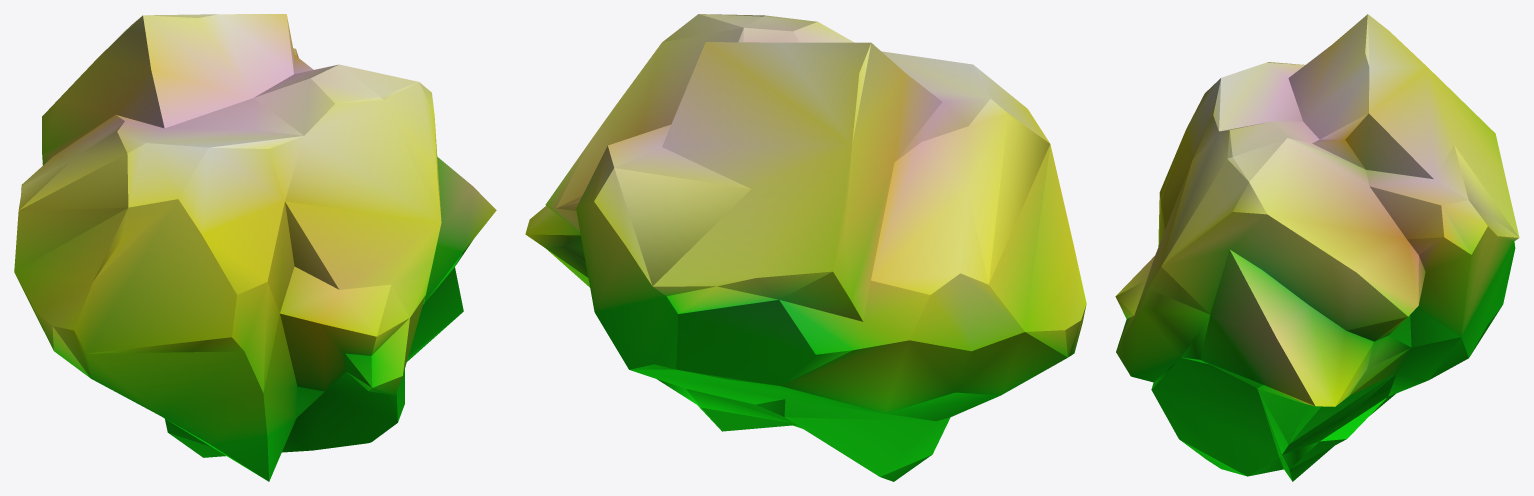
Rendered from rock_clump_01_LOD2.fbx.
3 views of the same model, side by side, from view 1: azimuth 30°, elevation 25°; view 2: azimuth 150°, elevation 25°; view 3: azimuth 270°, elevation 25° (orthographic). The views are drawn at different scales.
Parts seen in each view (by area): view 1: LOD2; view 2: LOD2; view 3: LOD2.
Boxes of the visible parts, x1=… form: LOD2: x1=14, y1=14, x2=496, y2=481; LOD2: x1=525, y1=14, x2=1086, y2=481; LOD2: x1=1115, y1=14, x2=1519, y2=481.
Size of the model in its own units: 1297 by 1117 by 1032.
